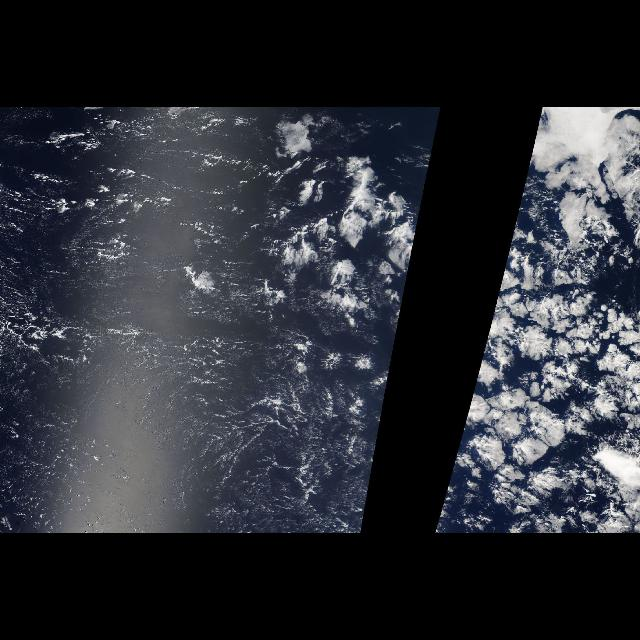Flower: (252, 112, 428, 316), (466, 263, 640, 461)
Sugar: (3, 108, 261, 530)
